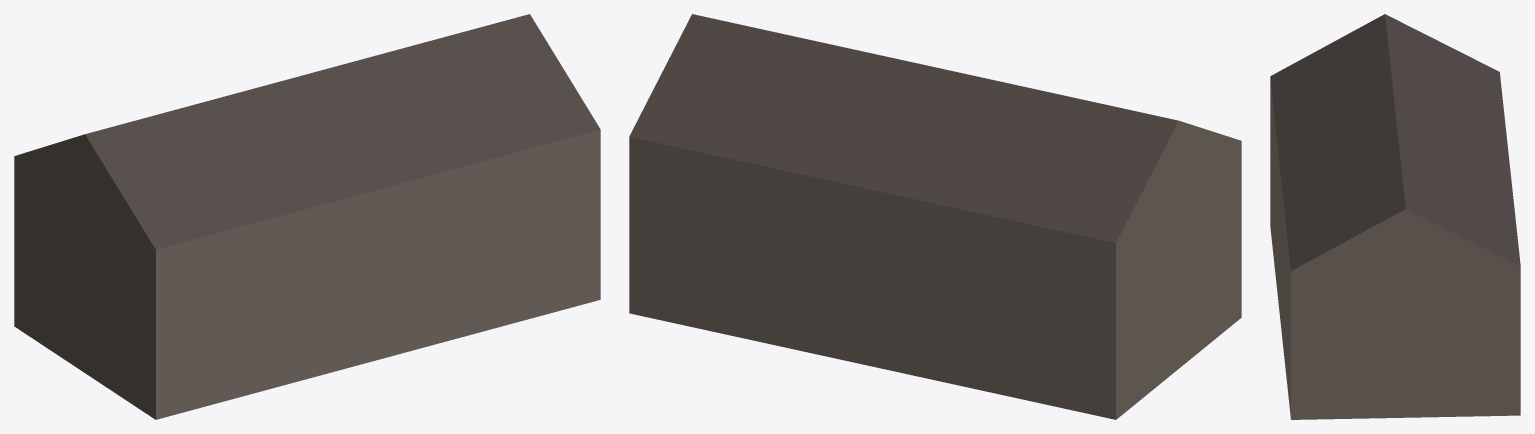
3 renders of one model, left to right at view 1: azimuth 30°, elevation 25°; view 2: azimuth 150°, elevation 25°; view 3: azimuth 270°, elevation 25°, orthographic. The views are drawn at different scales.
Parts seen in each view (by area): view 1: HP-w859424187; view 2: HP-w859424187; view 3: HP-w859424187.
Boxes of the visible parts, <box> form: HP-w859424187: <box>14,14,600,419</box>; HP-w859424187: <box>629,14,1241,419</box>; HP-w859424187: <box>1270,14,1520,419</box>.
Size of the model in its own units: 25.87 by 12.64 by 13.75.
